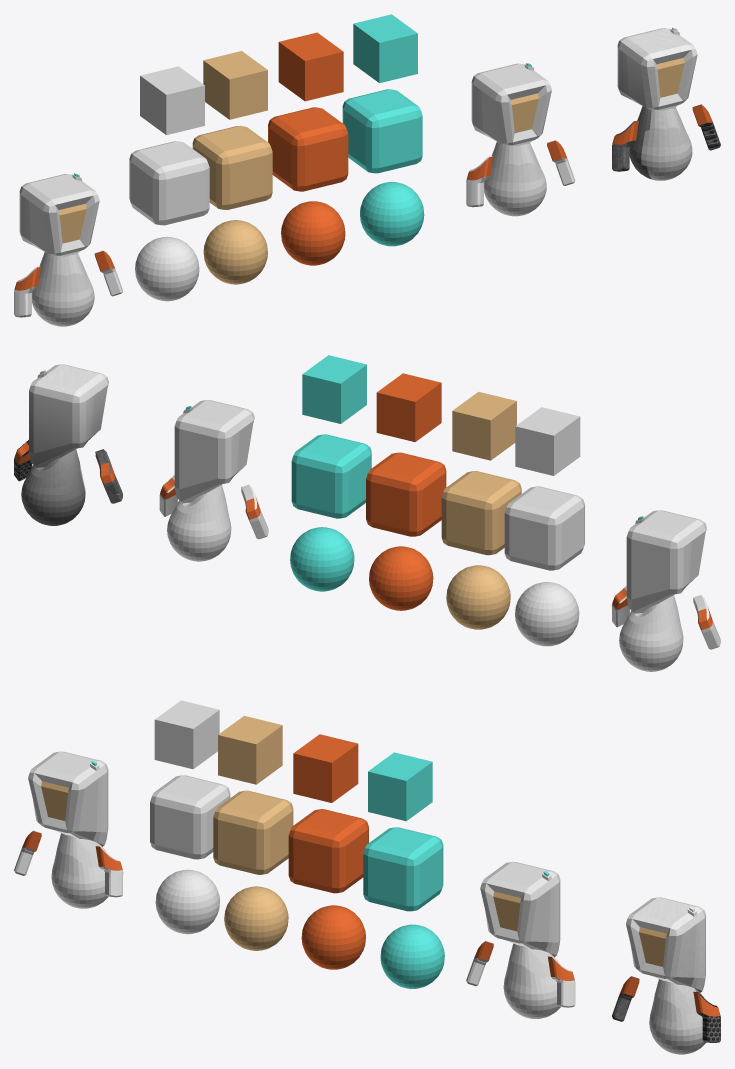
Rendered from paletteTest1.glb.
3 renders of one model, top to bottom at view 1: azimuth 30°, elevation 25°; view 2: azimuth 150°, elevation 25°; view 3: azimuth 330°, elevation 25°, orthographic.
Parts seen in each view (by area): view 1: Sphere; view 2: Sphere; view 3: Sphere.
Part boxes in pixels (x1,y1,x2,y2): Sphere: [14, 14, 720, 326]; Sphere: [14, 355, 720, 671]; Sphere: [14, 700, 720, 1054].
Bounding box in the file's own units: 25.24 × 7.5 × 2.38.
5 materials, 1 textured.
